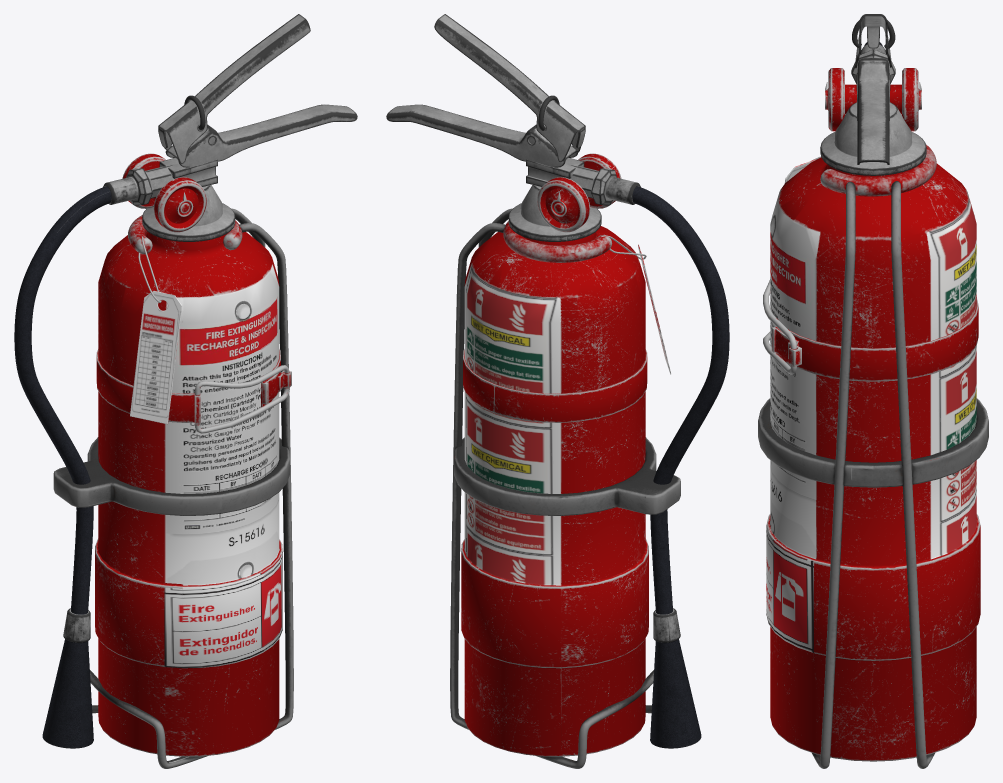
File: fire_extinguisher.glb
The picture shows the model from 3 angles, left to right: view 1: azimuth 30°, elevation 25°; view 2: azimuth 150°, elevation 25°; view 3: azimuth 270°, elevation 25°; orthographic projection. The views are drawn at different scales.
Parts seen in each view (by area): view 1: Object_4, Object_3, Object_6, Object_2, Object_5; view 2: Object_4, Object_6, Object_3, Object_2; view 3: Object_4, Object_6, Object_3, Object_2.
Part boxes in pixels (box(x1,y1,x2,y2)): Object_4: box(95, 153, 282, 756); Object_3: box(42, 14, 357, 748); Object_6: box(53, 208, 293, 768); Object_2: box(14, 165, 173, 614); Object_5: box(130, 290, 182, 424); Object_4: box(461, 153, 648, 756); Object_6: box(450, 208, 680, 768); Object_3: box(386, 14, 701, 748); Object_2: box(570, 165, 729, 614); Object_4: box(766, 68, 980, 761); Object_6: box(758, 144, 988, 768); Object_3: box(820, 14, 926, 175); Object_2: box(851, 42, 895, 90).
Size of the model in its own units: 4.28 by 8.32 by 2.24.
Materials: 3 (3 with a texture image).
